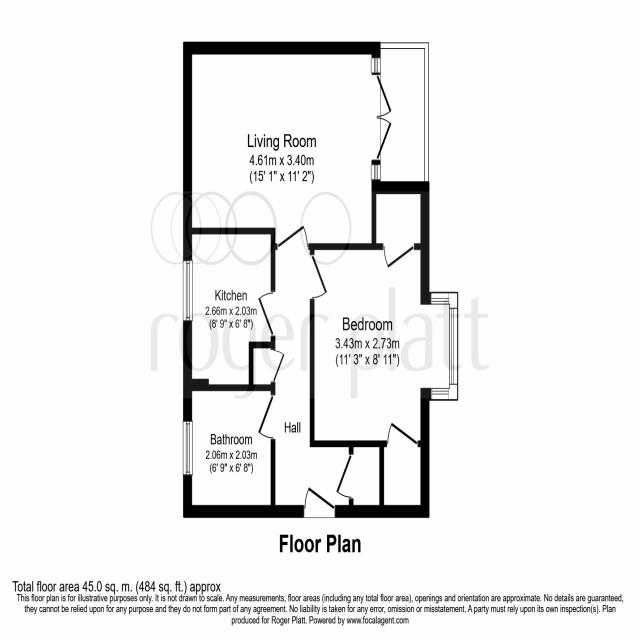DOOR: (302, 484, 336, 518), (309, 253, 329, 301), (256, 393, 275, 441), (257, 290, 276, 338), (276, 223, 309, 250), (382, 243, 415, 270), (386, 420, 418, 447)
DOUBLE DOOR: (372, 73, 393, 165)
ROOM: (183, 41, 393, 252), (309, 243, 458, 448), (183, 227, 276, 392)
WINDOW: (430, 291, 459, 401), (182, 259, 194, 323), (182, 419, 194, 478)
